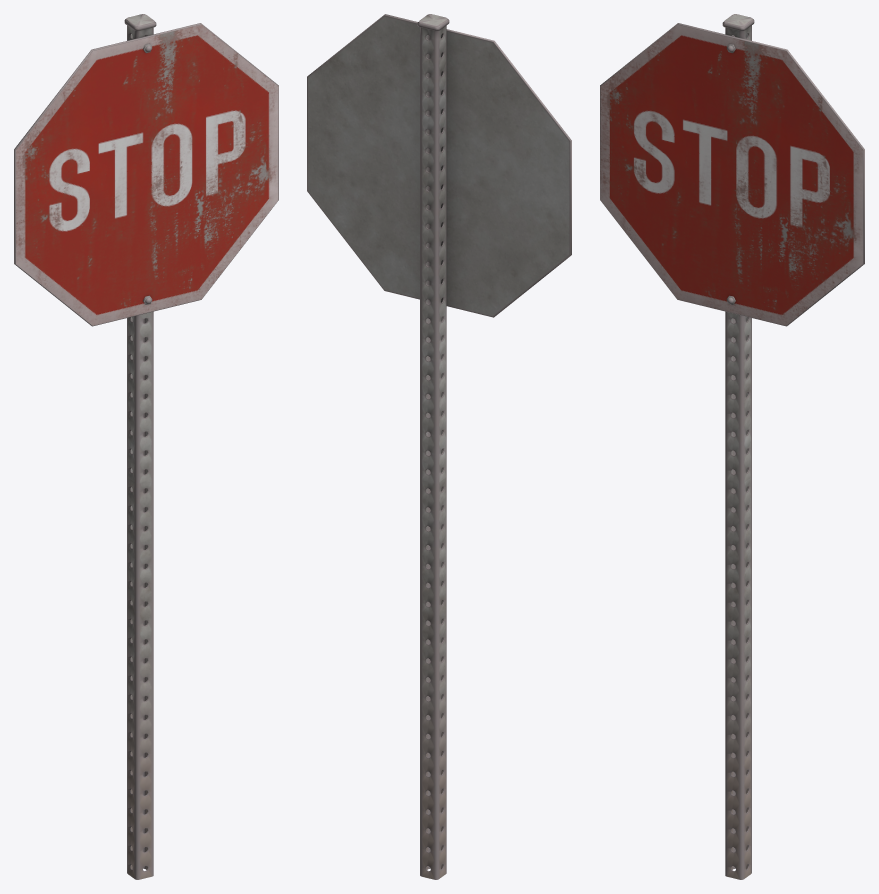
The model's file is stop.glb.
3 views of the same model, side by side, from view 1: azimuth 30°, elevation 25°; view 2: azimuth 150°, elevation 25°; view 3: azimuth 330°, elevation 25° (orthographic).
Visible parts, largest first — view 1: stop_sign; view 2: stop_sign; view 3: stop_sign.
Part boxes in pixels (bbox=[...]): stop_sign: bbox=[14, 14, 278, 879]; stop_sign: bbox=[307, 14, 571, 879]; stop_sign: bbox=[600, 14, 864, 879].
Size of the model in its own units: 8.83 by 27.29 by 0.9004.
1 material, 1 textured.
